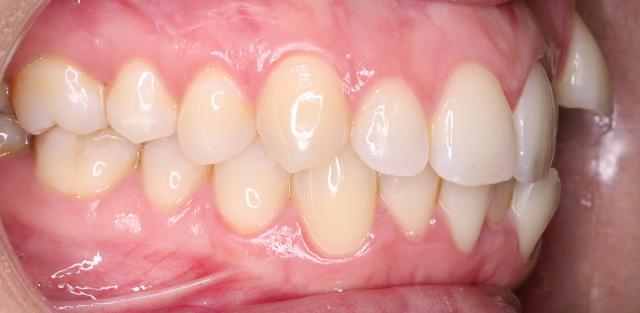canine class I: (210, 49, 380, 257)
molar class I: (11, 56, 140, 198)
